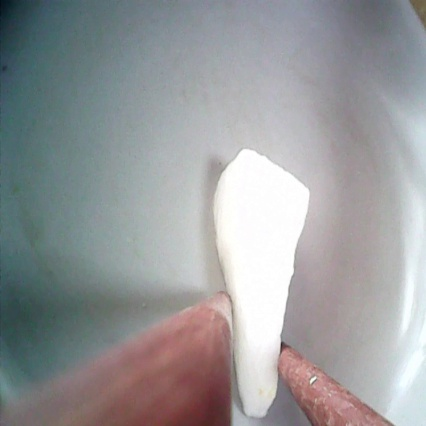white_chinese-yam: (214, 143, 316, 418)
